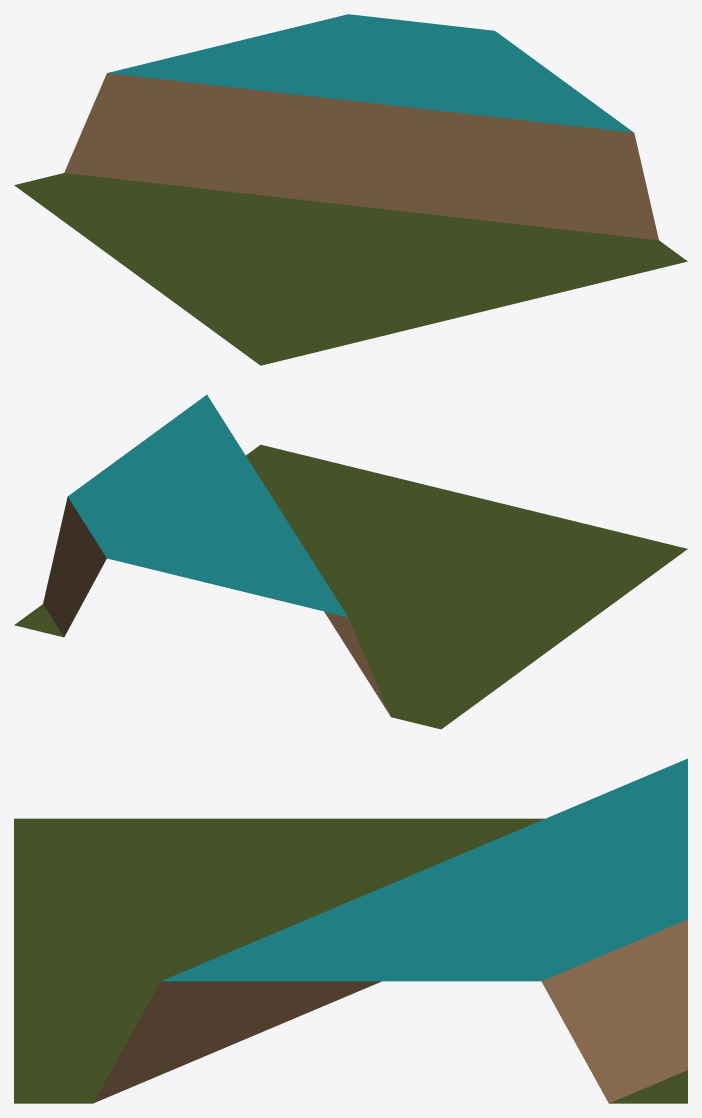
Rendered from TB_Env_Mountain_E.FBX.
3 renders of one model, top to bottom at view 1: azimuth 30°, elevation 25°; view 2: azimuth 150°, elevation 25°; view 3: azimuth 270°, elevation 25°, orthographic. The views are drawn at different scales.
Parts seen in each view (by area): view 1: TB_Env_Mountain_E; view 2: TB_Env_Mountain_E; view 3: TB_Env_Mountain_E.
Part boxes in pixels (x1=…): TB_Env_Mountain_E: x1=14, y1=14, x2=687, y2=365; TB_Env_Mountain_E: x1=14, y1=395, x2=687, y2=729; TB_Env_Mountain_E: x1=14, y1=758, x2=687, y2=1103.
Bounding box in the file's own units: 10 × 2 × 10.
1 material, 1 textured.
